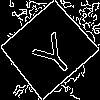Y: (24, 24, 79, 81)
